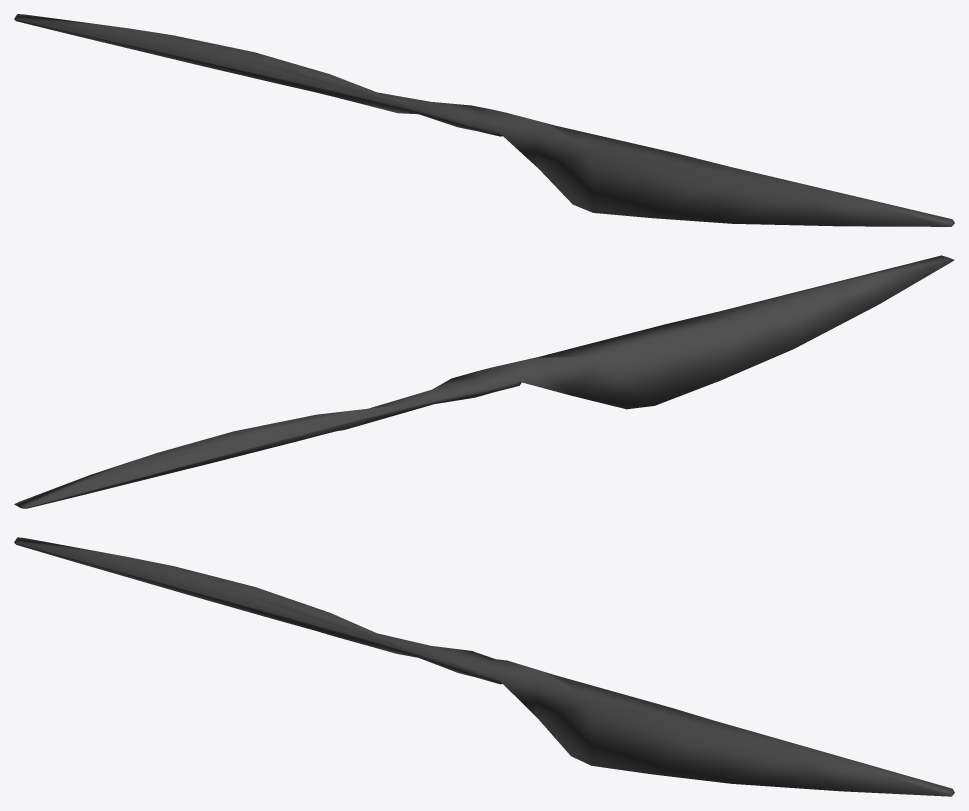
The model's file is navi-15in-CW-tex.dae.
3 views of the same model, one above another, from view 1: azimuth 90°, elevation 25°; view 2: azimuth 150°, elevation 25°; view 3: azimuth 270°, elevation 25° (orthographic).
Parts seen in each view (by area): view 1: 15inch_prop_low.001_15inch_prop.003; view 2: 15inch_prop_low.001_15inch_prop.003; view 3: 15inch_prop_low.001_15inch_prop.003.
Part boxes in pixels (x1,y1,x2,y2): 15inch_prop_low.001_15inch_prop.003: (14,14,954,226); 15inch_prop_low.001_15inch_prop.003: (14,255,954,508); 15inch_prop_low.001_15inch_prop.003: (14,537,954,796).
Bounding box in the file's own units: 0.1976 × 0.3328 × 0.0233.
1 material, 1 textured.
